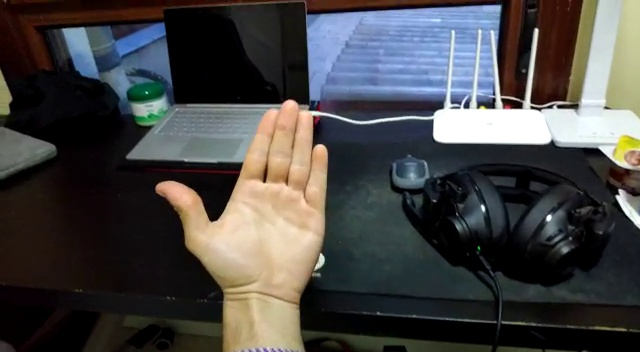Palm: (154, 99, 331, 310)
